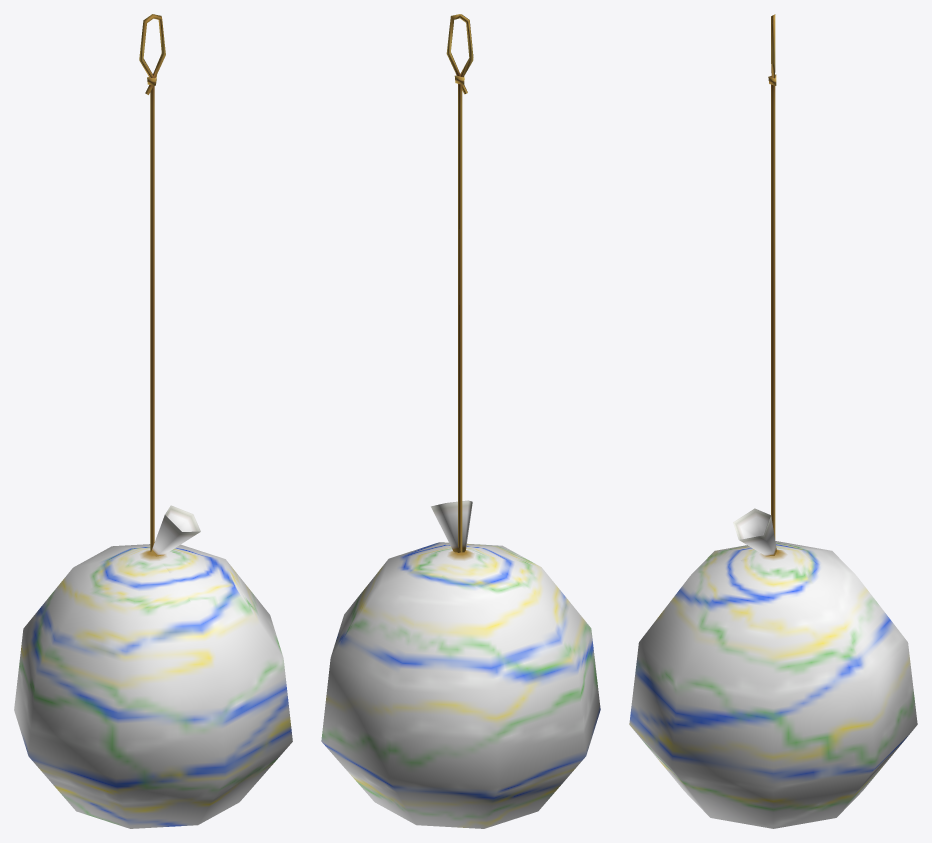
File: jsf_WaterBalloon_14_a.fbx
The picture shows the model from 3 angles, left to right: view 1: azimuth 30°, elevation 25°; view 2: azimuth 150°, elevation 25°; view 3: azimuth 270°, elevation 25°; orthographic projection.
Visible parts, largest first — view 1: jsf_WaterBalloon_14_a; view 2: jsf_WaterBalloon_14_a; view 3: jsf_WaterBalloon_14_a.
Boxes of the visible parts, x1=… form: jsf_WaterBalloon_14_a: x1=14, y1=14, x2=292, y2=828; jsf_WaterBalloon_14_a: x1=321, y1=14, x2=600, y2=828; jsf_WaterBalloon_14_a: x1=629, y1=14, x2=917, y2=828.
Size of the model in its own units: 10.92 by 33.54 by 10.92.
